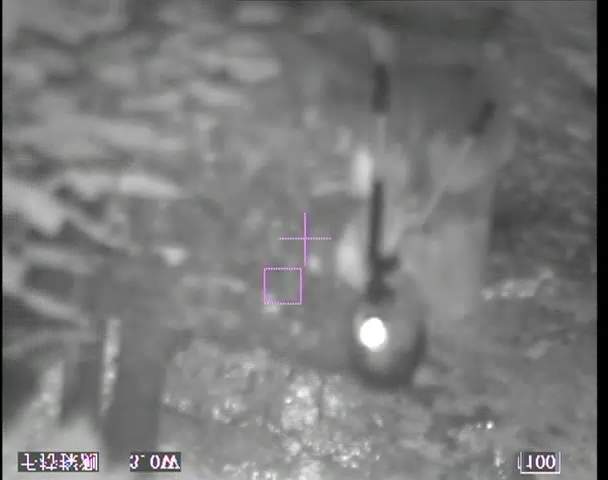my: (359, 316, 390, 349)
